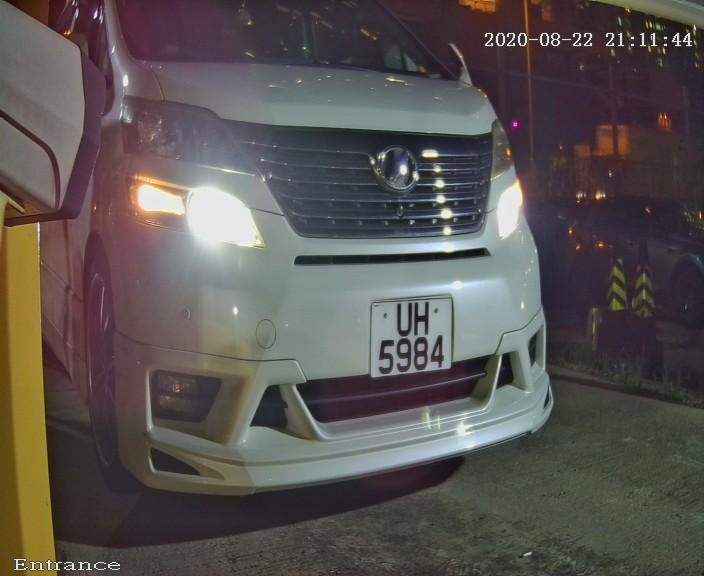Car: (29, 11, 595, 525)
License Plate: (359, 283, 463, 389)
